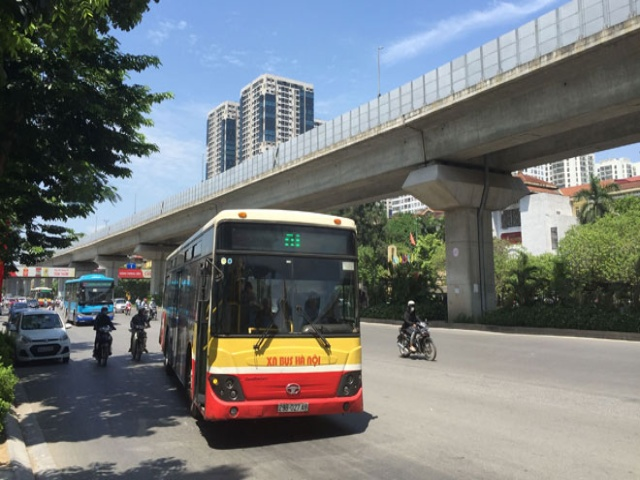Xe_buyt: (160, 209, 365, 423)
Xe_hoi: (6, 308, 73, 364)
